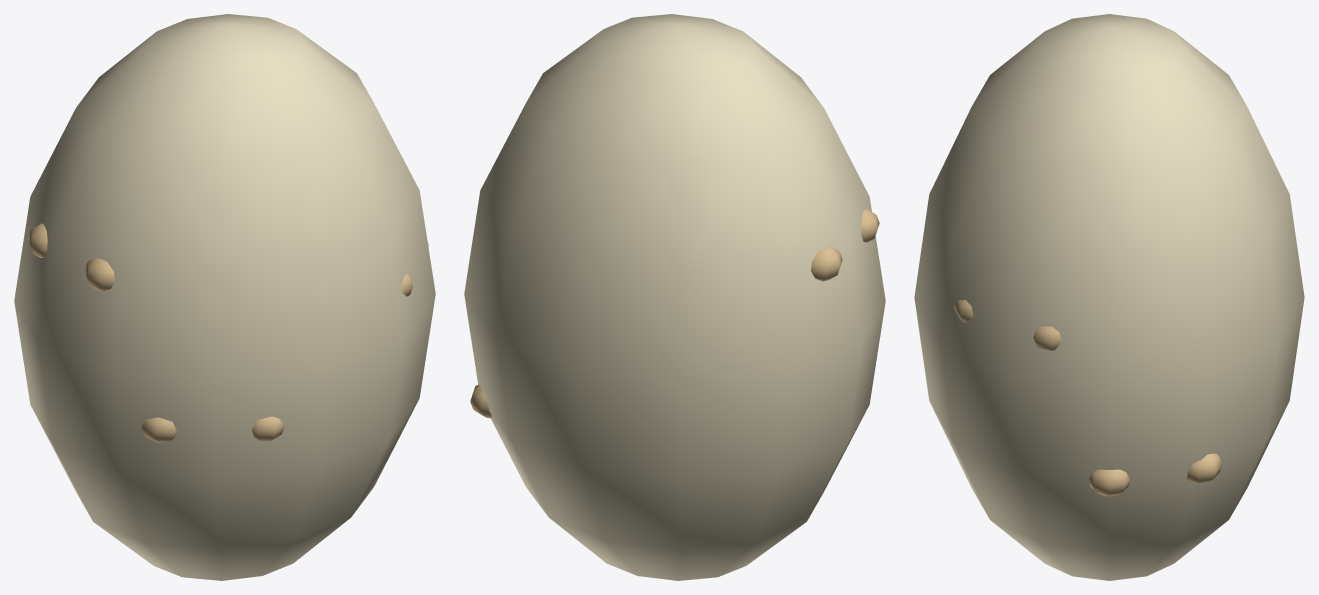
Rendered from primeval-frontier-dinosaur-egg-61b7963f__1766.glb.
3 views of the same model, side by side, from view 1: azimuth 30°, elevation 25°; view 2: azimuth 150°, elevation 25°; view 3: azimuth 270°, elevation 25° (orthographic).
Visible parts, largest first — view 1: dinosaur-egg; view 2: dinosaur-egg; view 3: dinosaur-egg.
Boxes of the visible parts, x1,y1,x2,y2 form: dinosaur-egg: [14, 14, 435, 580]; dinosaur-egg: [464, 14, 885, 580]; dinosaur-egg: [914, 14, 1304, 580].
Bounding box in the file's own units: 0.46 × 0.64 × 0.42.
